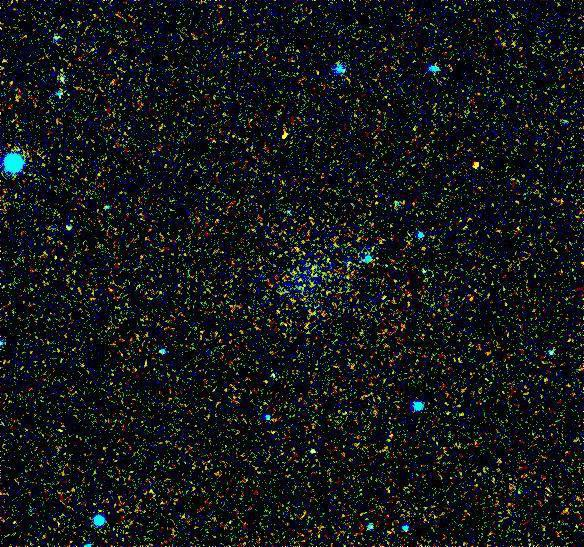star: (461, 150, 491, 180)
